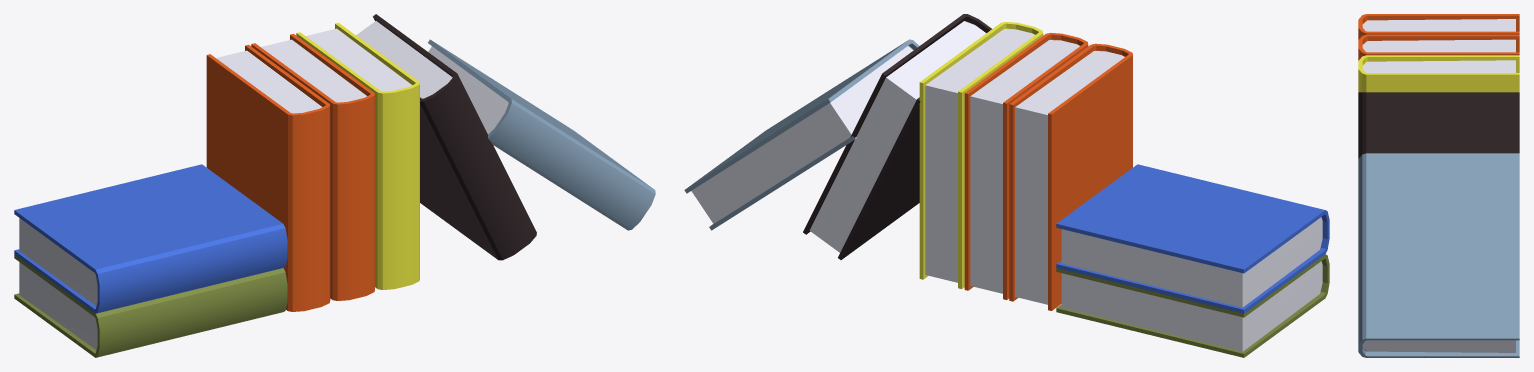
Rendered from Books.fbx.
The picture shows the model from 3 angles, left to right: view 1: azimuth 30°, elevation 25°; view 2: azimuth 150°, elevation 25°; view 3: azimuth 270°, elevation 25°; orthographic projection. The views are drawn at different scales.
Visible parts, largest first — view 1: book009, book, book003, book002, book001, book008, book004; view 2: book009, book, book003, book002, book001, book008, book004; view 3: book004, book003, book002, book001, book.
Boxes of the visible parts, bbox=[...] form: book009: bbox=[14, 164, 287, 313]; book: bbox=[206, 44, 330, 311]; book003: bbox=[356, 14, 536, 260]; book002: bbox=[296, 22, 419, 289]; book001: bbox=[251, 34, 374, 300]; book008: bbox=[14, 254, 287, 357]; book004: bbox=[428, 39, 655, 230]; book009: bbox=[1056, 164, 1329, 313]; book: bbox=[1009, 43, 1132, 310]; book003: bbox=[803, 14, 991, 259]; book002: bbox=[919, 22, 1043, 288]; book001: bbox=[964, 33, 1088, 299]; book008: bbox=[1056, 254, 1329, 357]; book004: bbox=[684, 39, 919, 230]; book004: bbox=[1358, 153, 1519, 357]; book003: bbox=[1358, 92, 1519, 158]; book002: bbox=[1358, 55, 1519, 92]; book001: bbox=[1358, 34, 1519, 60]; book: bbox=[1358, 14, 1519, 39].
Size of the model in its own units: 59.6 by 20.26 by 15.77.
